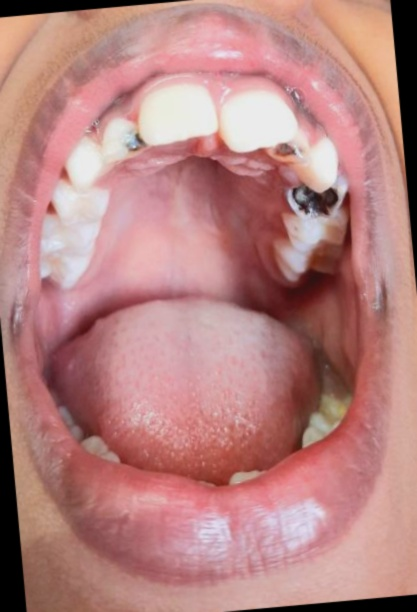Caries: (97, 121, 161, 160), (293, 182, 339, 221), (268, 125, 301, 157)
